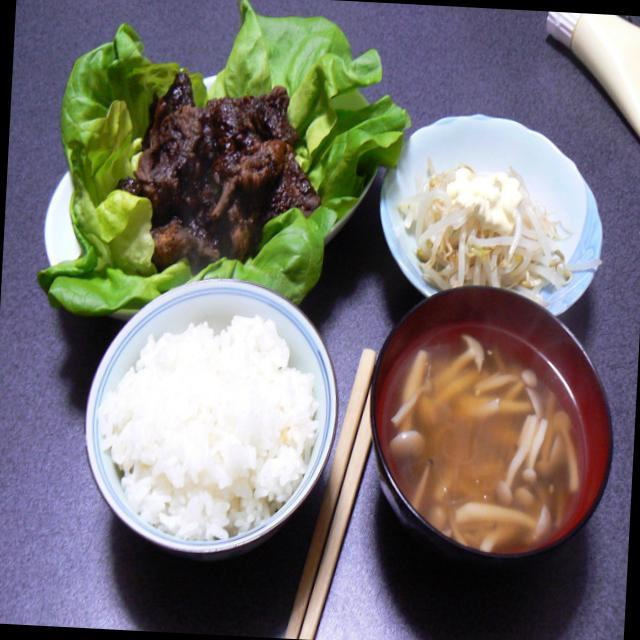Rice: (76, 295, 332, 559)
